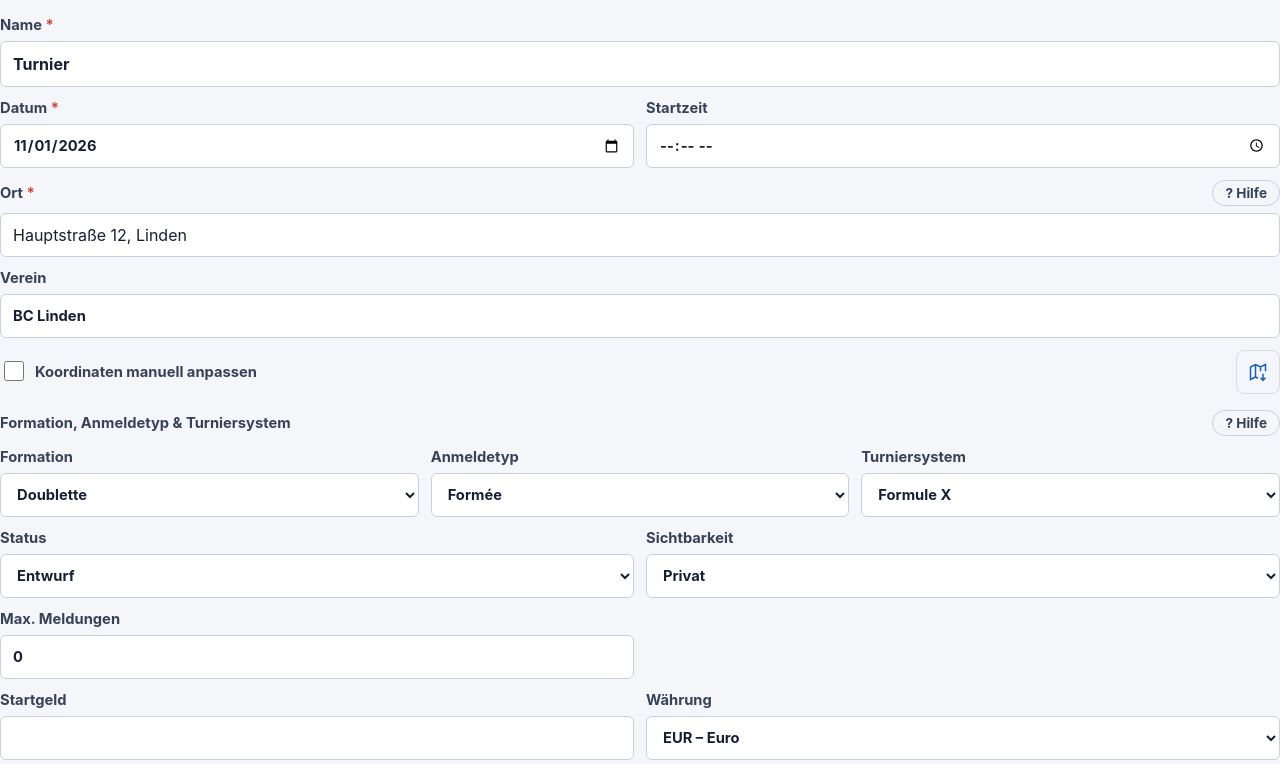
Test: Turnierort in einem Suchfeld › übernimmt den Google-Maps-Punkt ohne Orts- oder Vereinsänderung (create)
The image size is (1280, 764).
Click the button named "Koordinaten aus Google Maps importieren": (1258, 372) [1236, 350, 1279, 394]
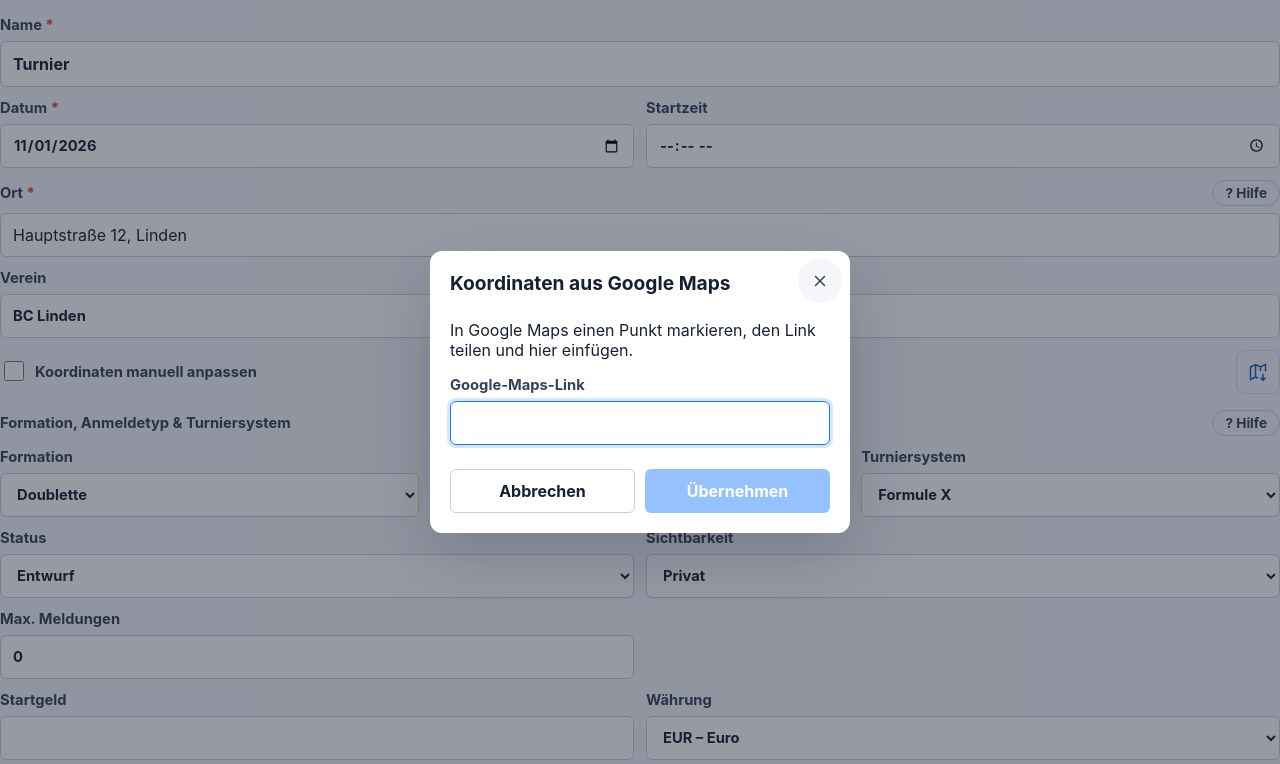
In the field labelled "Google-Maps-Link": (640, 424) [450, 402, 830, 446], type "https://www.google.com/maps?q=50.5000636,8.4206376"
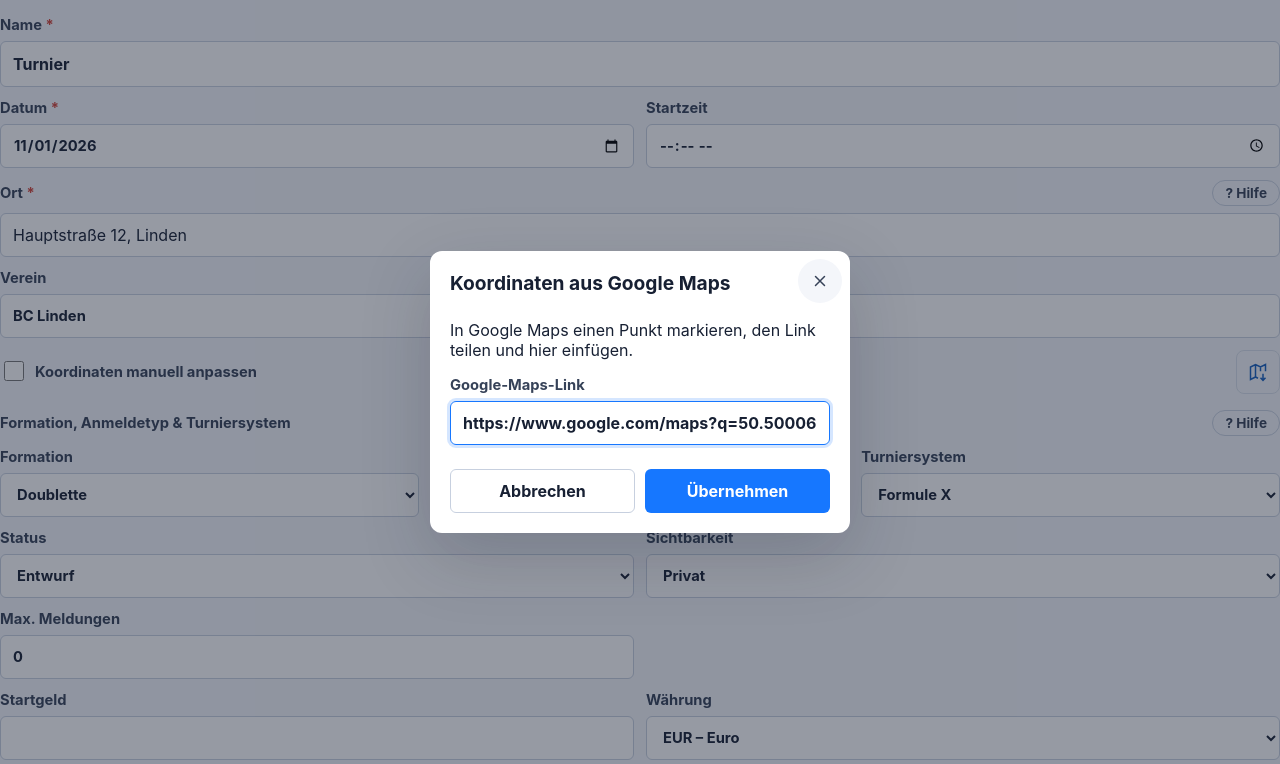
Click the button "Übernehmen": (738, 492) [645, 470, 830, 514]
(page scrolled)
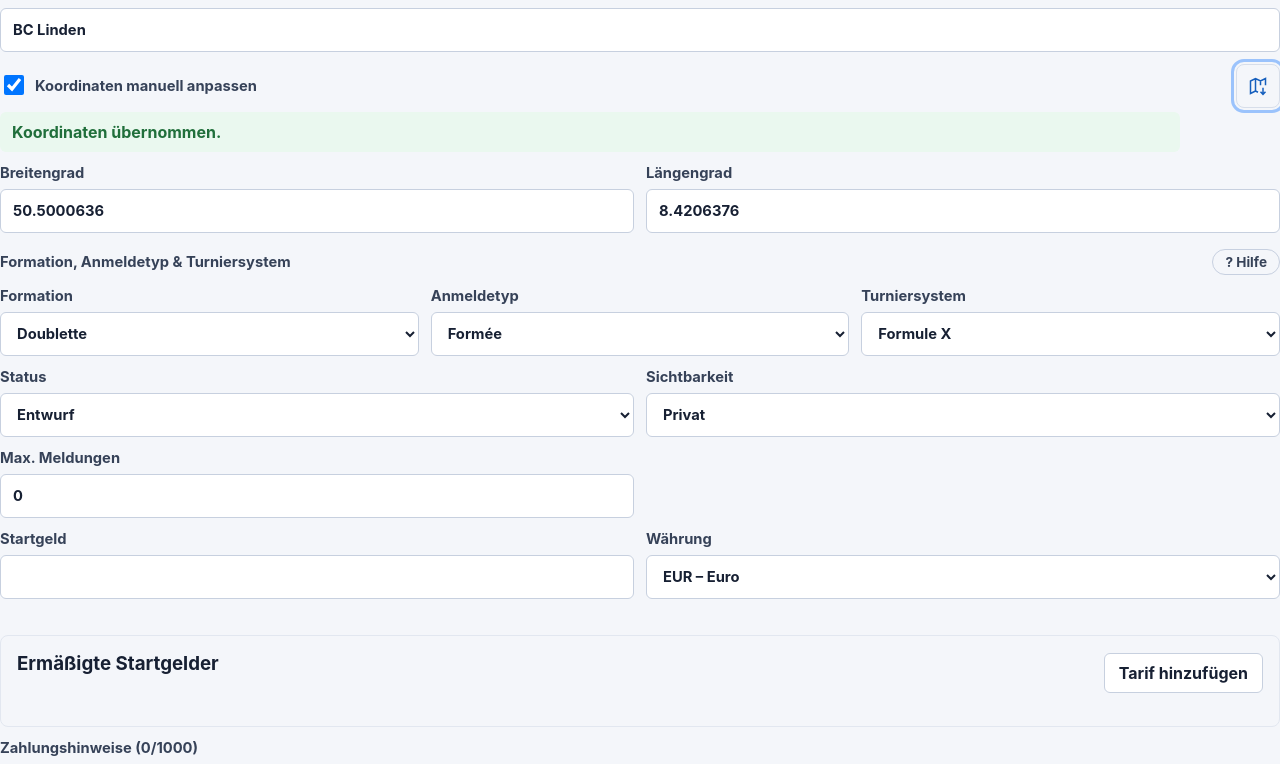
Now the dialog is gone
Now the number field labelled "Breitengrad" holds "50.5000636", box [0, 189, 634, 233]
